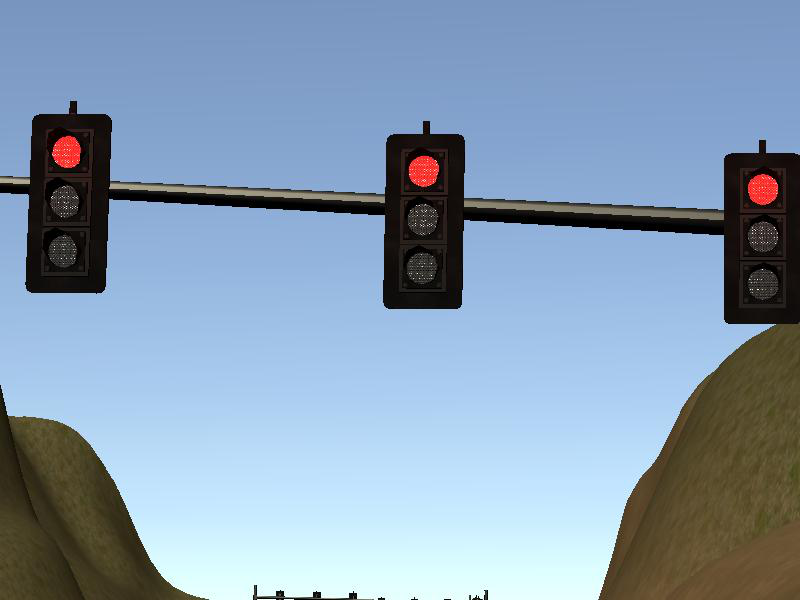red: (29, 114, 106, 291), (386, 134, 462, 308), (725, 153, 800, 326)
